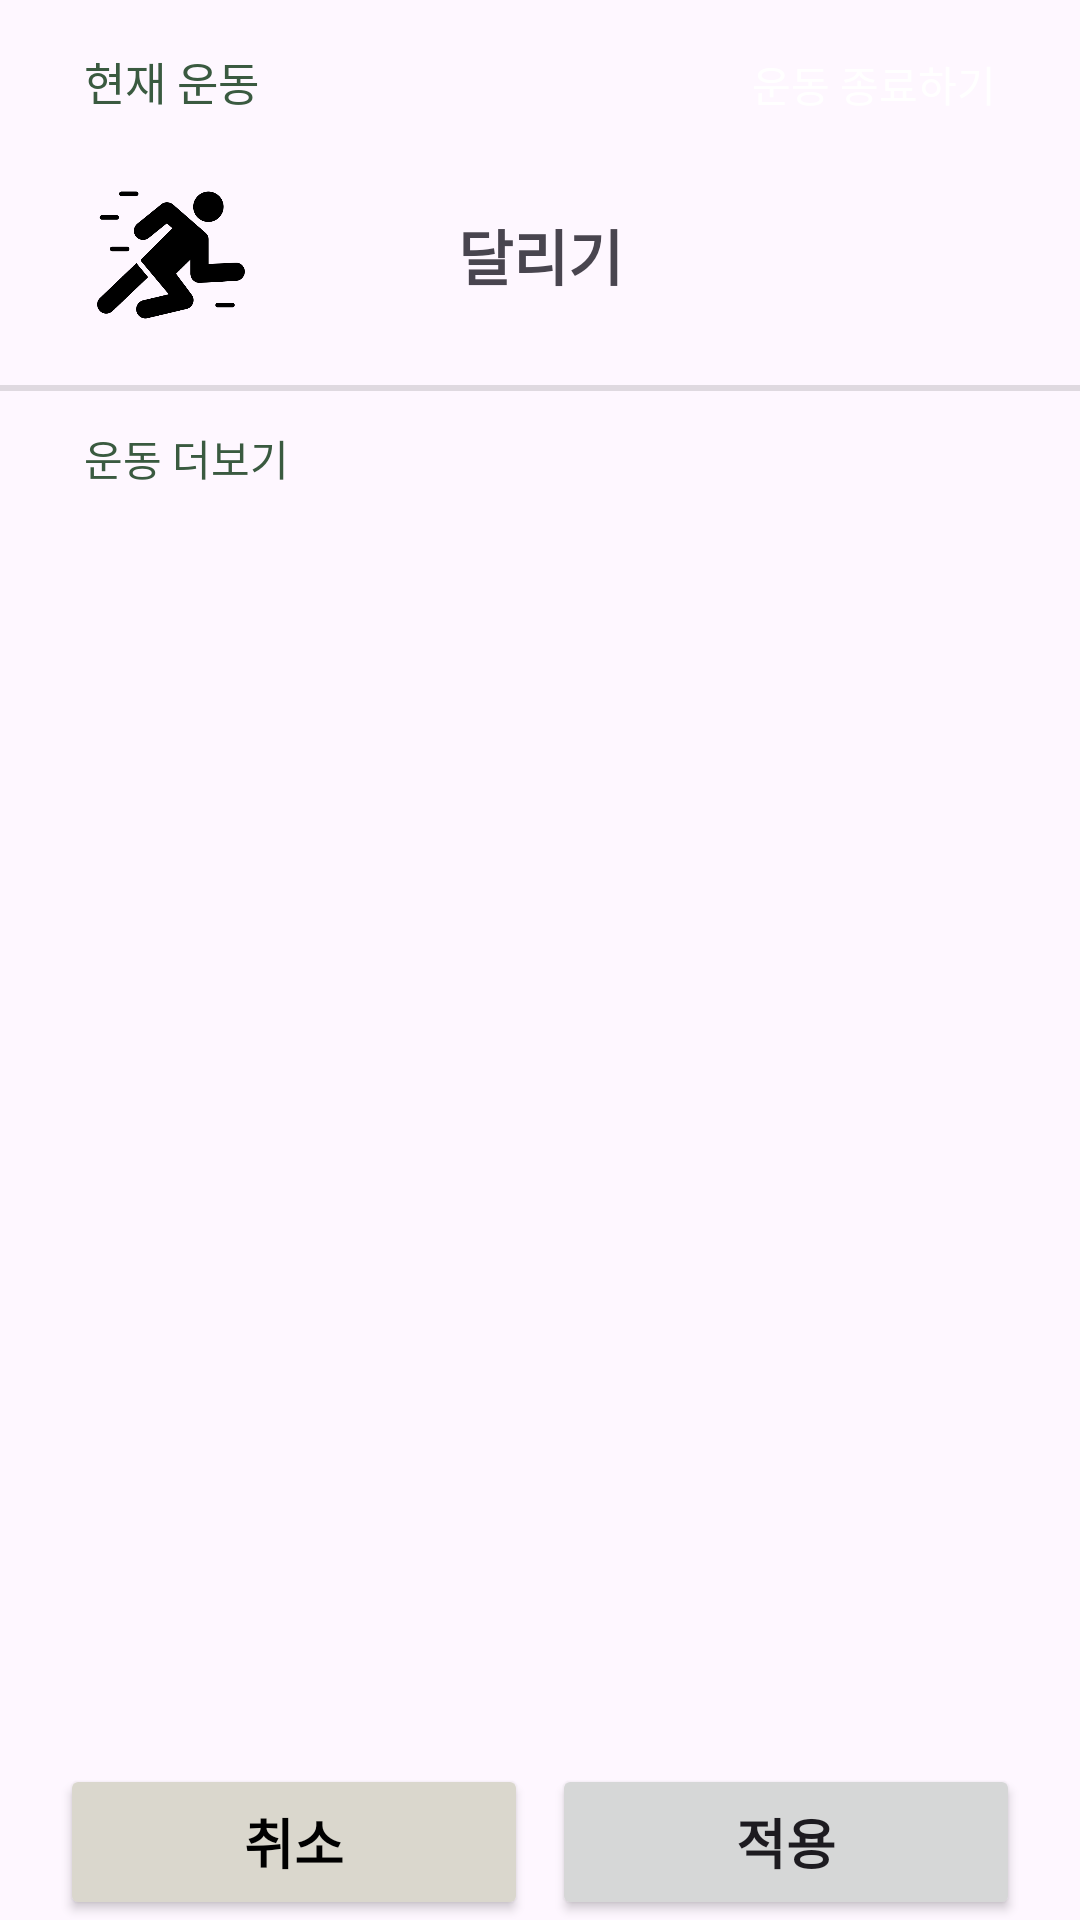

Icons on this 1080x1920 Android screen, each with the point to tap as (x,y):
run: (171,255)
